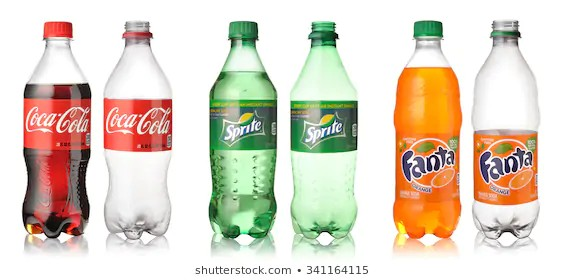coke-bottle-700ml: (102, 12, 180, 241), (19, 8, 95, 240)
